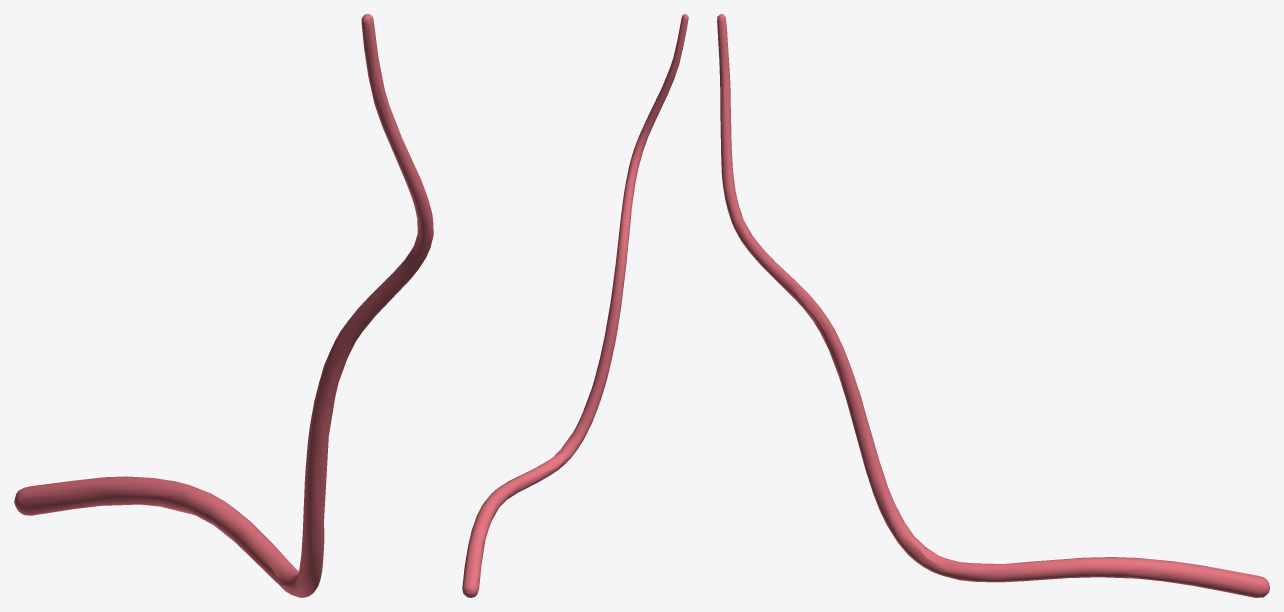
File: fma76076_fj5156.glb
The picture shows the model from 3 angles, left to right: view 1: azimuth 30°, elevation 25°; view 2: azimuth 150°, elevation 25°; view 3: azimuth 270°, elevation 25°; orthographic projection. The views are drawn at different scales.
Visible parts, largest first — view 1: FMA76076_FJ5156; view 2: FMA76076_FJ5156; view 3: FMA76076_FJ5156.
Part boxes in pixels (x1,y1,x2,y2): FMA76076_FJ5156: [14, 14, 433, 597]; FMA76076_FJ5156: [462, 14, 688, 597]; FMA76076_FJ5156: [717, 14, 1269, 597].
Size of the model in its own units: 0.00482 by 0.0333 by 0.029.
